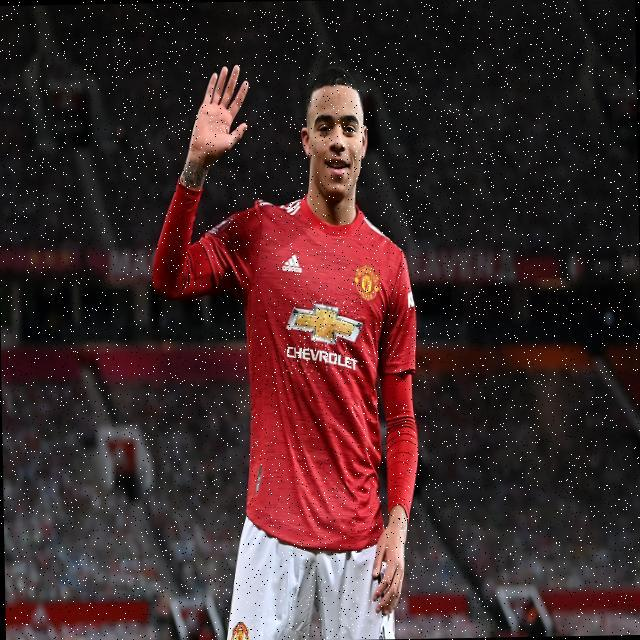Chevrolet: (283, 298, 363, 375)
